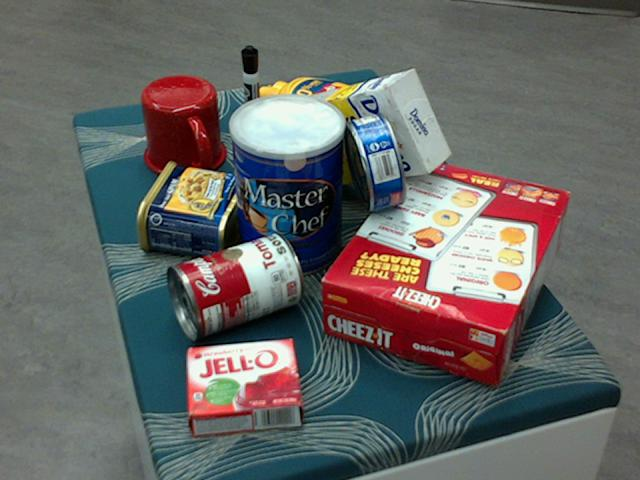cracker_box: (319, 157, 570, 384)
gelatin_box: (186, 338, 303, 434)
large_marker: (240, 45, 262, 148)
master_chef_can: (228, 95, 343, 280)
mug: (141, 75, 227, 178)
mustard_bottle: (256, 76, 421, 165)
potted_meat_can: (135, 161, 250, 258)
sugar_box: (273, 70, 450, 187)
tomato_soup_can: (165, 234, 302, 338)
tuna_fish_can: (344, 111, 406, 210)
